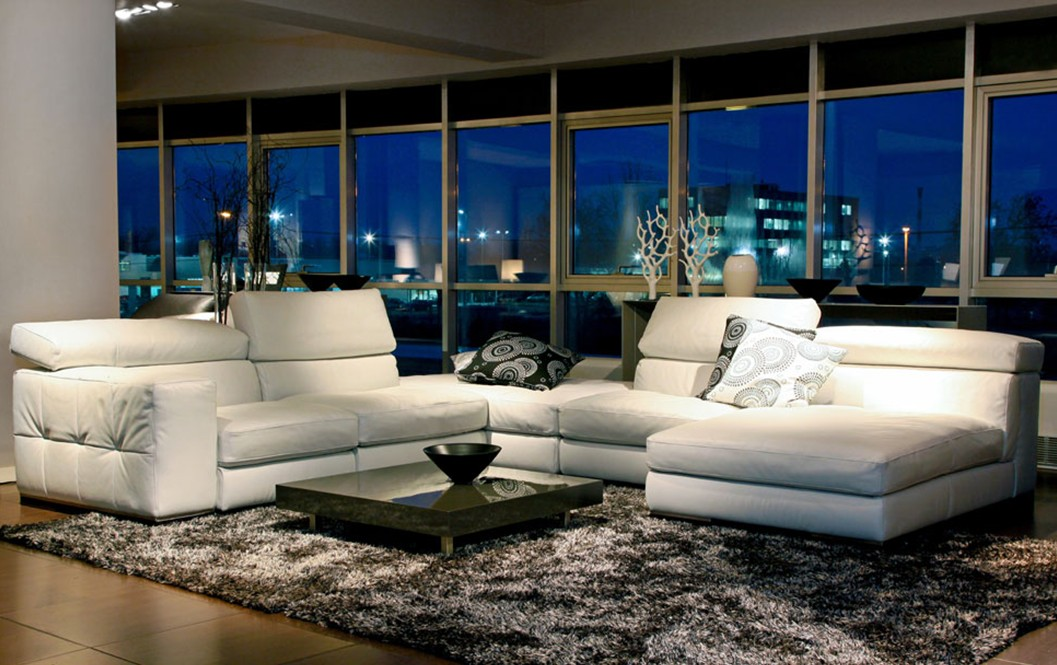chairs: (11, 291, 1044, 542)
